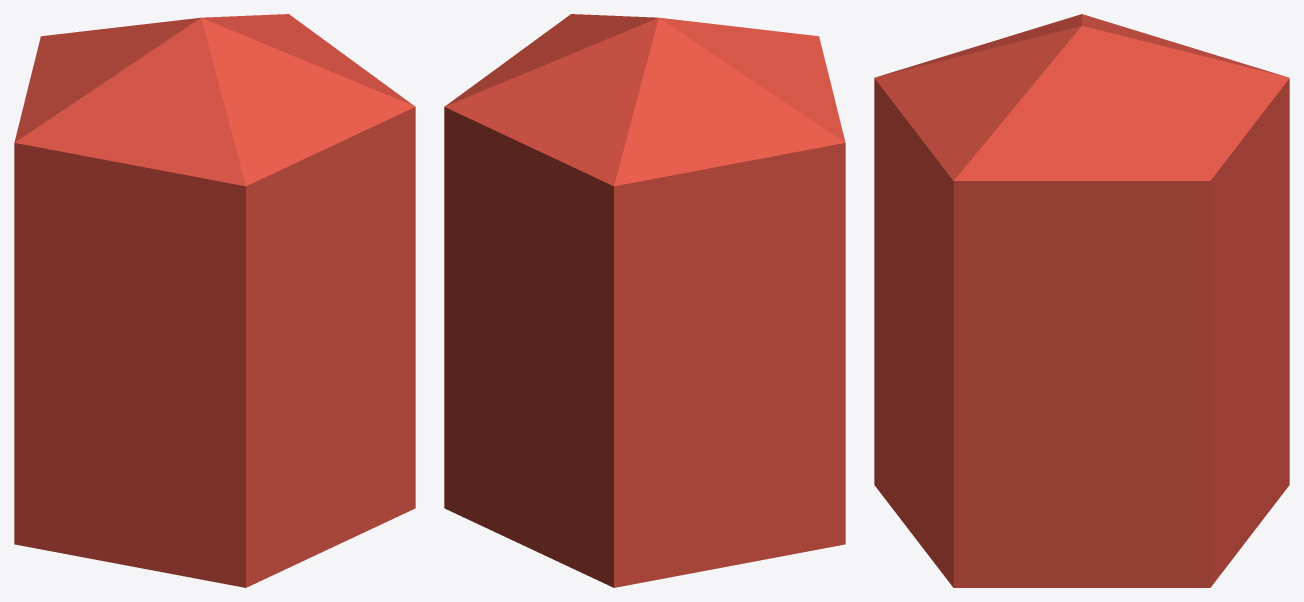
The model's file is SM_Microphone_Tripod_Base.fbx.
3 views of the same model, side by side, from view 1: azimuth 30°, elevation 25°; view 2: azimuth 150°, elevation 25°; view 3: azimuth 270°, elevation 25° (orthographic).
Parts seen in each view (by area): view 1: SM_Microphone_Tripod_Base; view 2: SM_Microphone_Tripod_Base; view 3: SM_Microphone_Tripod_Base.
Boxes of the visible parts, bbox=[...] form: SM_Microphone_Tripod_Base: bbox=[14, 14, 415, 587]; SM_Microphone_Tripod_Base: bbox=[444, 14, 845, 587]; SM_Microphone_Tripod_Base: bbox=[874, 14, 1289, 587].
Size of the model in its own units: 4.96 by 4.72 by 6.42.
